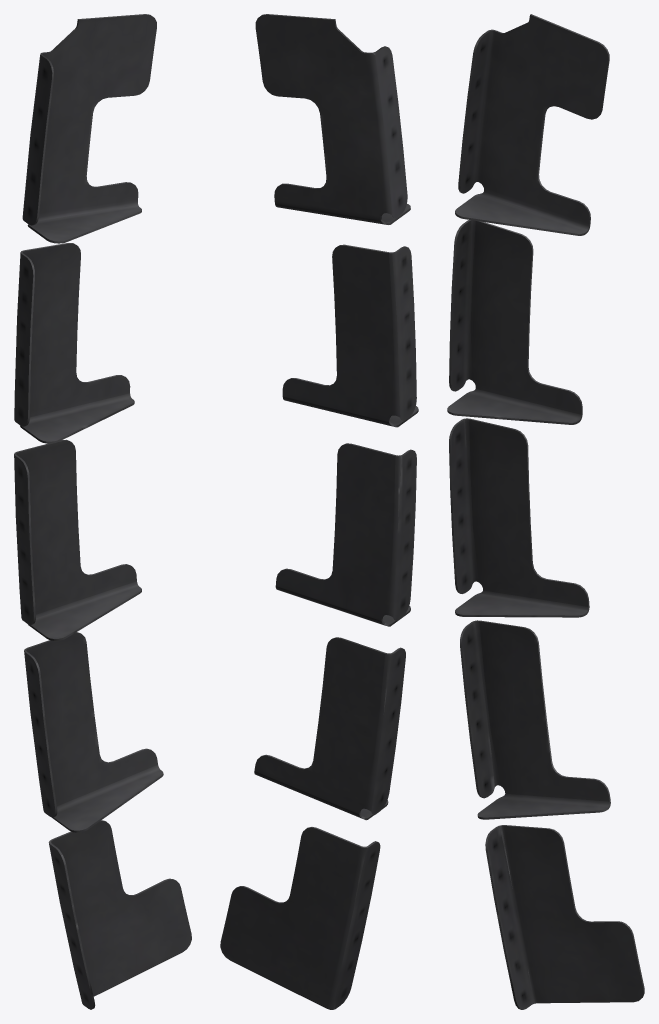
File: Sborka02.FBX
The picture shows the model from 3 angles, left to right: view 1: azimuth 30°, elevation 25°; view 2: azimuth 150°, elevation 25°; view 3: azimuth 330°, elevation 25°; orthographic projection.
Visible parts, largest first — view 1: Sborka0200, Sborka0204, Sborka0203, Sborka0202, Sborka0201; view 2: Sborka0200, Sborka0204, Sborka0201, Sborka0202, Sborka0203; view 3: Sborka0200, Sborka0204, Sborka0202, Sborka0203, Sborka0201.
Boxes of the visible parts, x1,y1,x2,y2 form: Sborka0200: (22,14,156,243); Sborka0204: (48,820,191,1009); Sborka0203: (24,632,163,832); Sborka0202: (14,439,141,640); Sborka0201: (14,243,134,443); Sborka0200: (255,14,410,224); Sborka0204: (220,827,380,1009); Sborka0201: (282,244,418,427); Sborka0202: (275,443,416,626); Sborka0203: (254,637,405,820); Sborka0200: (455,14,609,235); Sborka0204: (485,825,644,1009); Sborka0202: (449,418,589,617); Sborka0203: (460,620,610,819); Sborka0201: (447,220,582,424).
Size of the model in its own units: 142 by 38 by 746.
